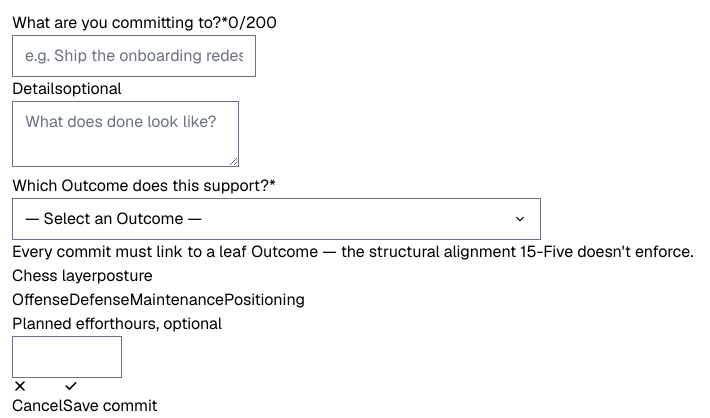
CommitForm › surfaces the mutation error when the API rejects
(page scrolled)
Type "Wire RCDO picker" into the field labelled "What are you committing to?*".
click(134, 56); type("Wire RCDO picker")  # box left=12, top=35, right=256, bottom=77
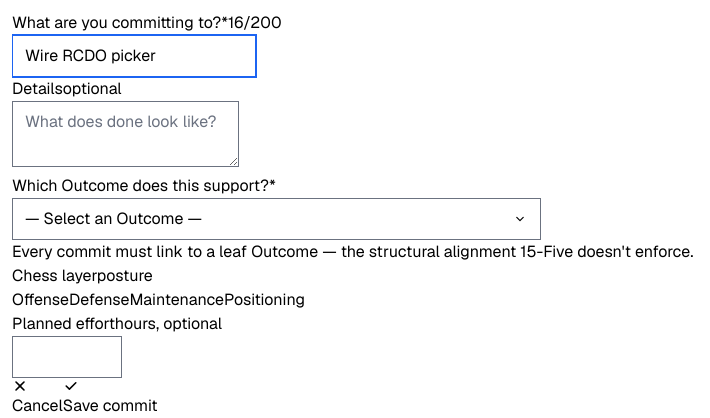
Select "[P0] Ship onboarding redesign — Reduce p50 onboarding time" in the dropdown labelled "Which Outcome does this support?*" at (276, 219), box left=12, top=198, right=541, bottom=240
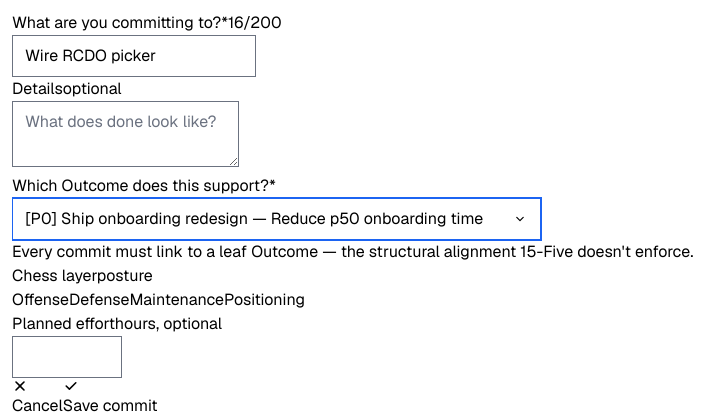
Click the button "Save commit".
click(110, 398)  # box left=63, top=378, right=158, bottom=417
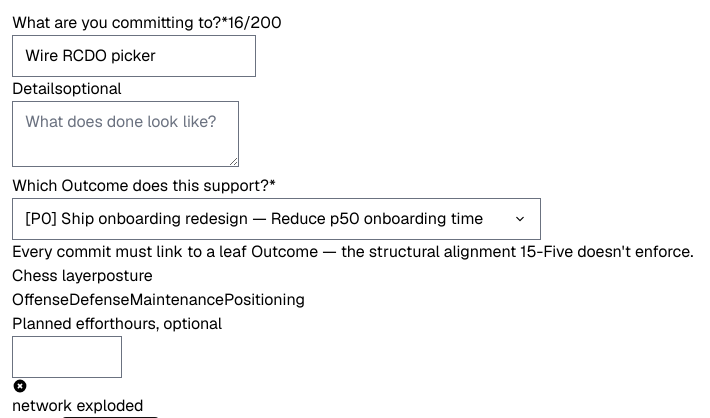
Result: the text "network exploded" is shown at left=12, top=395, right=144, bottom=416
